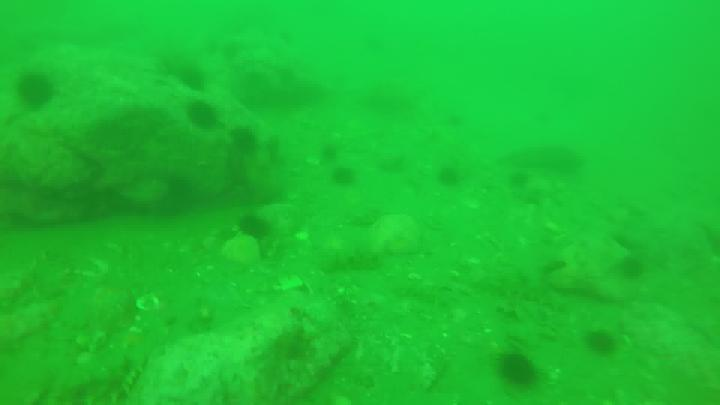echinus: (497, 352, 539, 383), (21, 72, 58, 106), (590, 327, 620, 357), (239, 212, 267, 241), (173, 67, 207, 88), (235, 123, 257, 154), (192, 104, 216, 132), (624, 256, 651, 280), (442, 164, 457, 186), (512, 169, 530, 187), (335, 166, 354, 183)
holothurian: (50, 348, 151, 405), (481, 268, 571, 316), (395, 284, 455, 308), (317, 251, 385, 272)
scallop: (136, 293, 159, 311)
